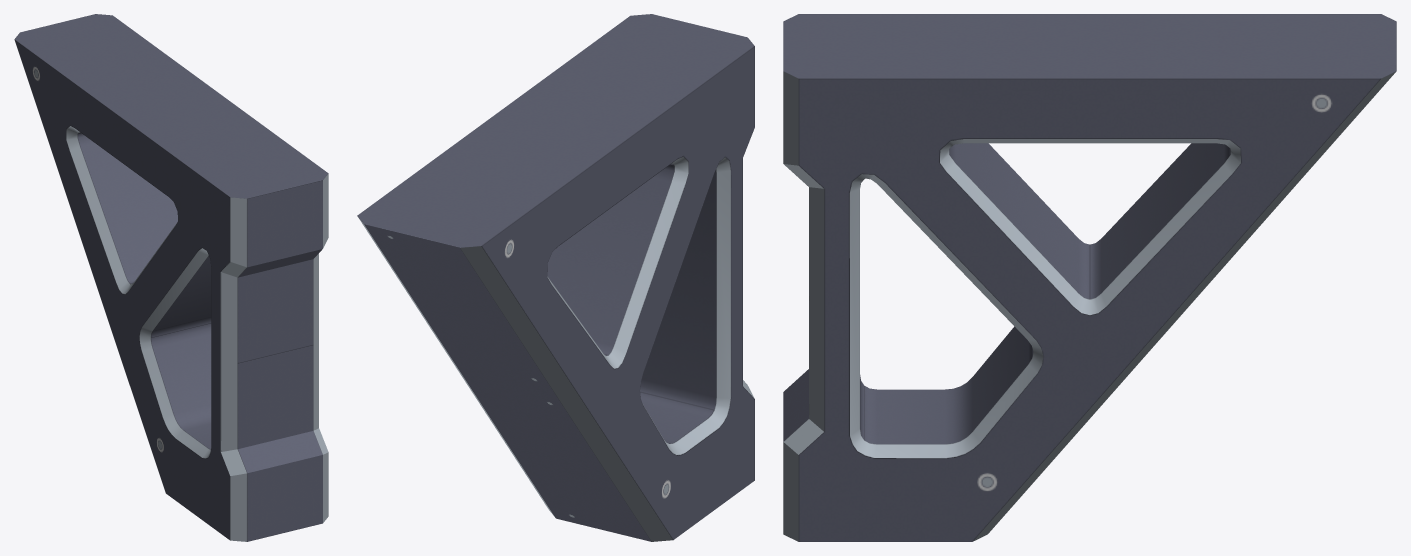
File: Pillar_Big_01.FBX
3 views of the same model, side by side, from view 1: azimuth 30°, elevation 25°; view 2: azimuth 150°, elevation 25°; view 3: azimuth 270°, elevation 25° (orthographic). The views are drawn at different scales.
Parts seen in each view (by area): view 1: Pillar_Big_01; view 2: Pillar_Big_01; view 3: Pillar_Big_01.
Part boxes in pixels (box(x1,y1,x2,y2)): Pillar_Big_01: box(14, 14, 328, 541); Pillar_Big_01: box(357, 14, 754, 541); Pillar_Big_01: box(783, 14, 1396, 541).
Bounding box in the file's own units: 1.5 × 5 × 6.
2 materials, 2 textured.
